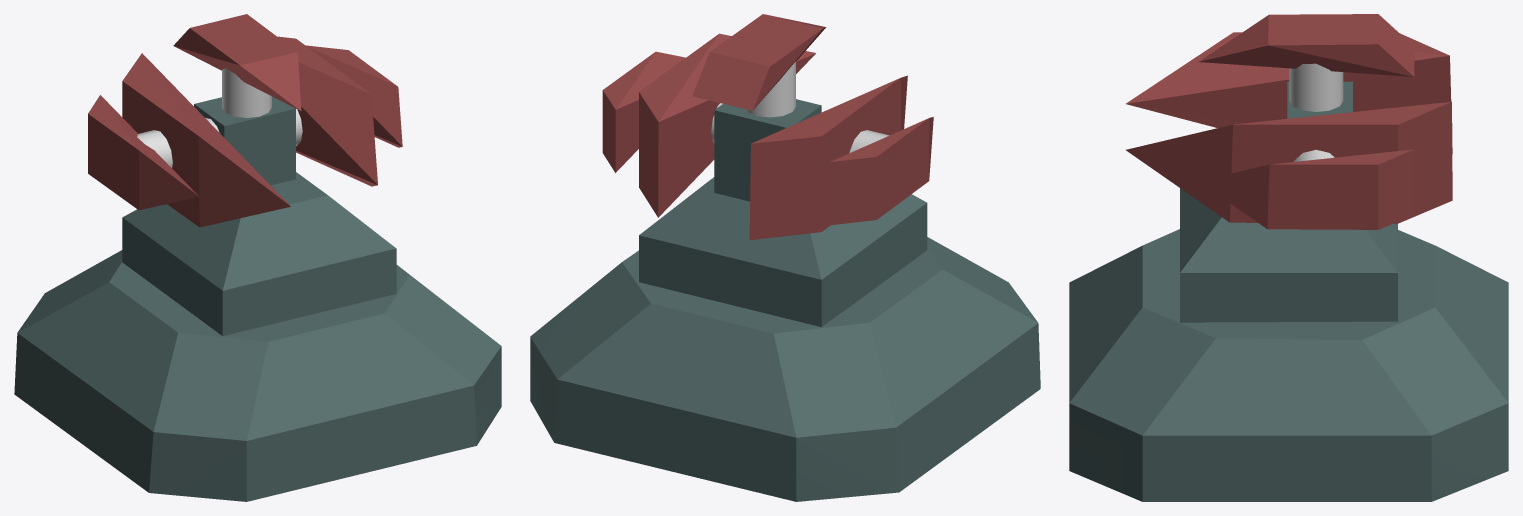
File: tourelle2_1.FBX
3 renders of one model, left to right at view 1: azimuth 30°, elevation 25°; view 2: azimuth 150°, elevation 25°; view 3: azimuth 270°, elevation 25°, orthographic. The views are drawn at different scales.
Visible parts, largest first — view 1: base, bas_tourelle, waypon_right, waypon_left, waypon_top, vertical_arm, horizontal_arm; view 2: base, bas_tourelle, waypon_right, waypon_left, waypon_top, vertical_arm; view 3: base, waypon_left, bas_tourelle, waypon_right, waypon_top, vertical_arm.
Part boxes in pixels (x1,y1,x2,y2): base: (14,250,501,501); bas_tourelle: (122,96,396,335); waypon_right: (88,53,290,227); waypon_left: (277,36,402,186); waypon_top: (173,14,301,110); vertical_arm: (222,68,271,117); horizontal_arm: (137,109,302,167); base: (530,237,1040,501); bas_tourelle: (639,99,927,327); waypon_right: (749,75,933,239); waypon_left: (602,33,815,217); waypon_top: (692,14,826,110); vertical_arm: (745,61,795,117); base: (1069,229,1508,501); waypon_left: (1126,101,1452,229); bas_tourelle: (1180,81,1397,322); waypon_right: (1126,32,1452,153); waypon_top: (1199,14,1414,76); vertical_arm: (1289,63,1343,111).
Bounding box in the file's own units: 599 × 567 × 594.
